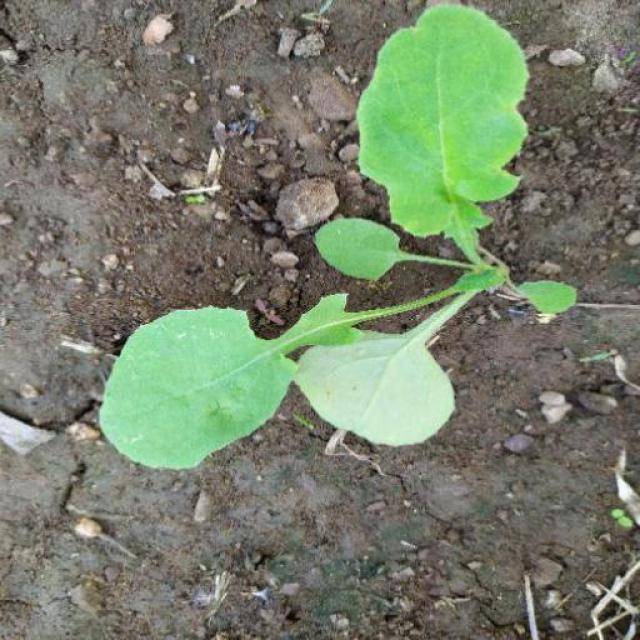weed: (89, 5, 574, 479)
